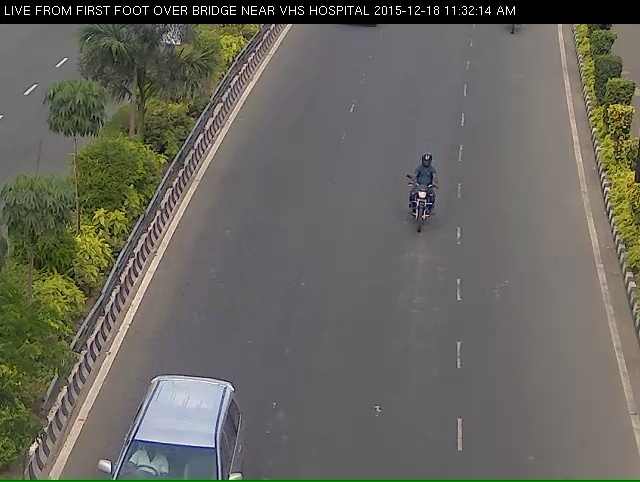Person: (392, 162, 451, 269)
